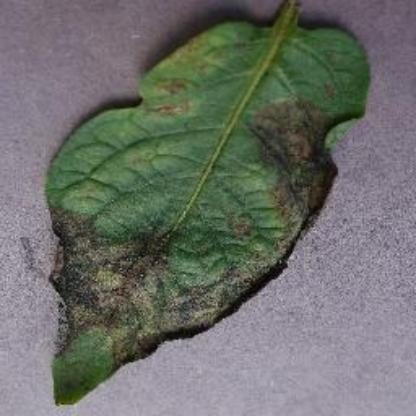Late-Blight: (34, 3, 376, 411)
